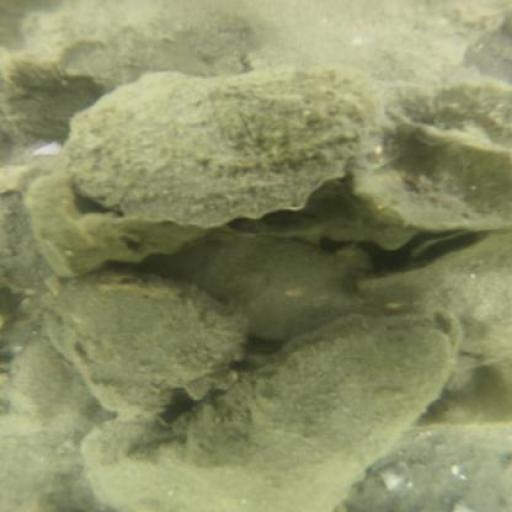Oyster-Closed: (62, 70, 387, 224), (182, 320, 460, 498), (47, 278, 241, 415), (168, 237, 359, 338), (364, 233, 509, 361)
Oyster-Open: (410, 228, 481, 270)
